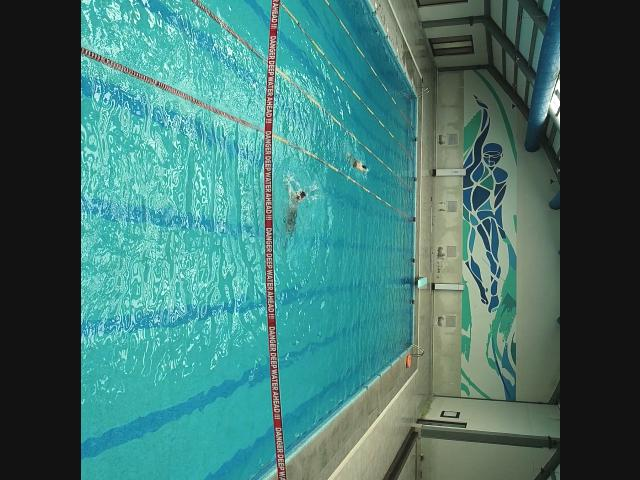drowning: (282, 182, 308, 204)
swimming: (346, 158, 368, 172)
